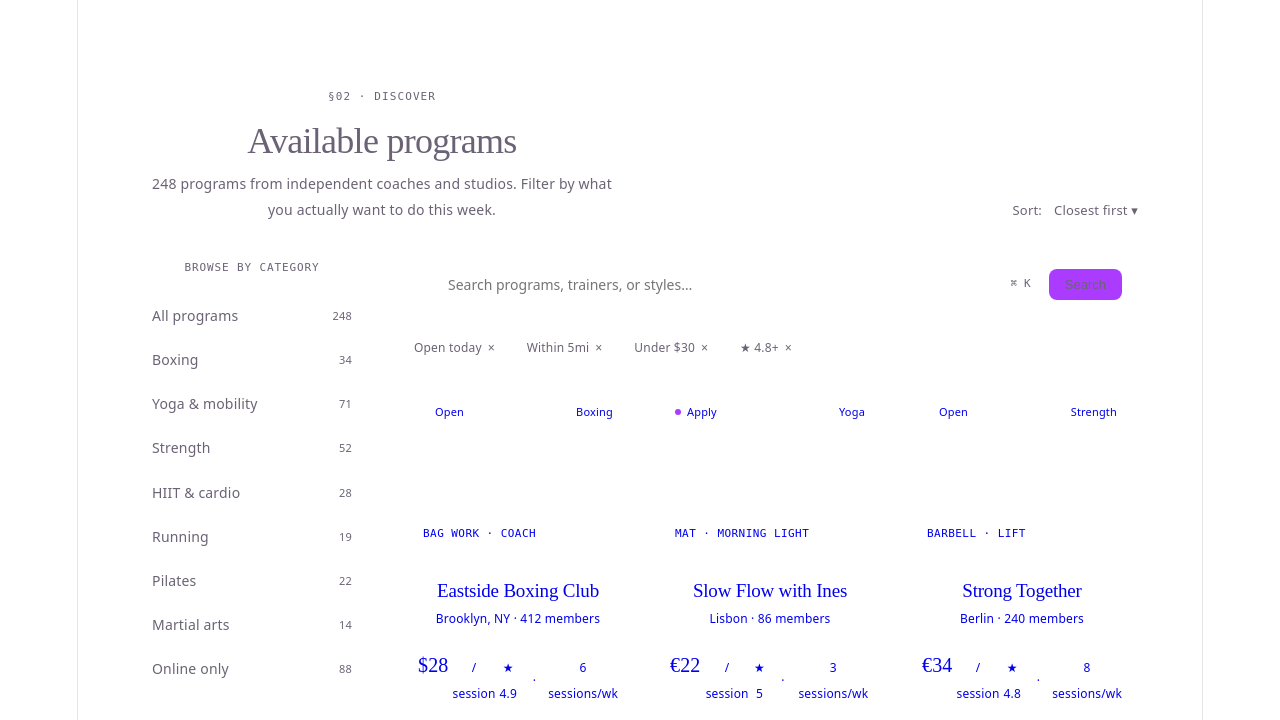
DiscoveryPage › filters to boxing programs when Boxing category is selected
(page scrolled)
Click the text "Boxing" below "All programs" at (175, 360), box [152,347,199,373]
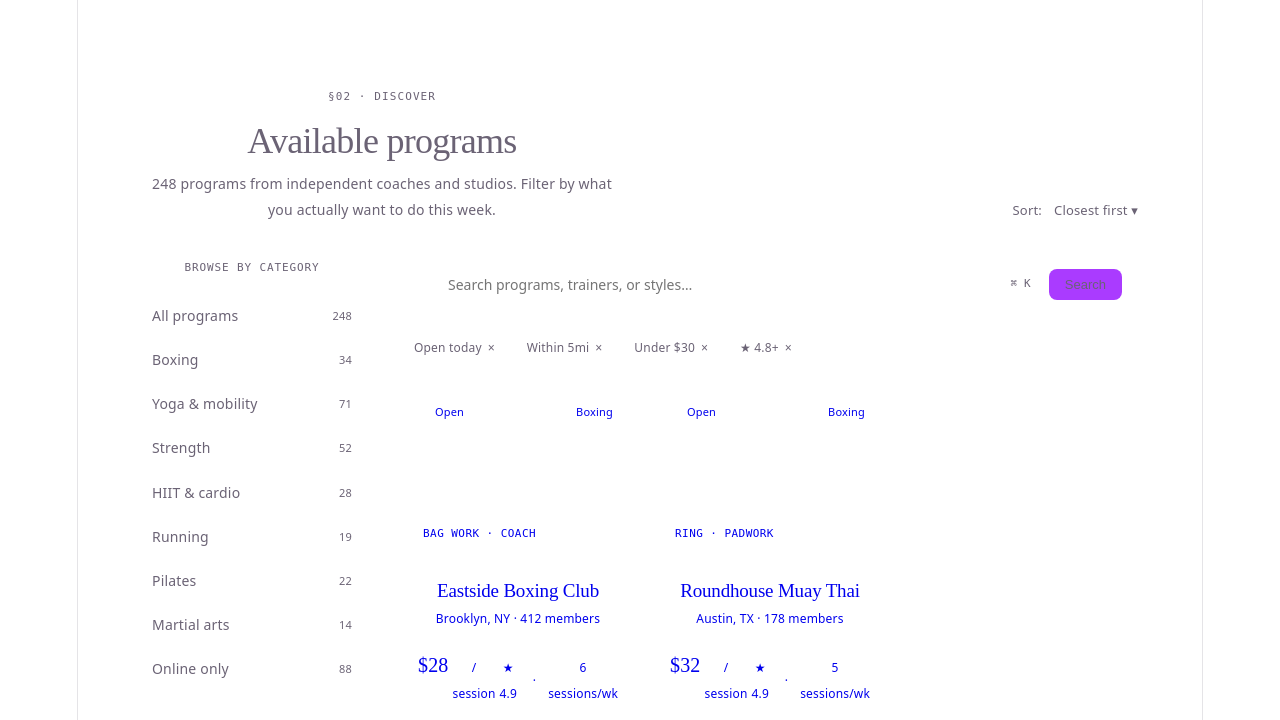
Check: the text "Eastside Boxing Club" is shown, box [437,580,599,601]
Check: the link "Slow Flow with Ines" is gone
